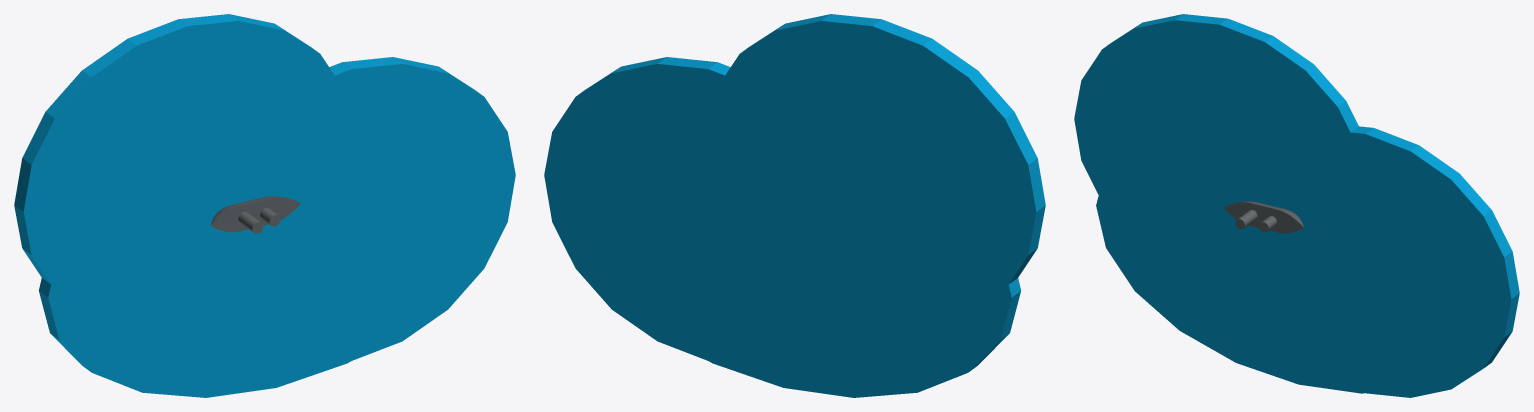
3 views of the same model, side by side, from view 1: azimuth 30°, elevation 25°; view 2: azimuth 150°, elevation 25°; view 3: azimuth 330°, elevation 25° (orthographic). The views are drawn at different scales.
Visible parts, largest first — view 1: group_0_40919, group_0_6383466; view 2: group_0_40919; view 3: group_0_40919, group_0_6383466.
Boxes of the visible parts, bbox=[...] form: group_0_40919: bbox=[14, 14, 515, 397]; group_0_6383466: bbox=[211, 196, 300, 233]; group_0_40919: bbox=[544, 14, 1045, 397]; group_0_40919: bbox=[1074, 14, 1519, 397]; group_0_6383466: bbox=[1224, 201, 1303, 233].
Size of the model in its own units: 180 by 134 by 21.
